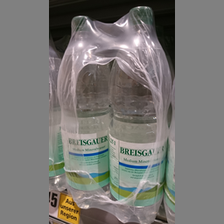water: (110, 4, 172, 224), (57, 16, 112, 210)
